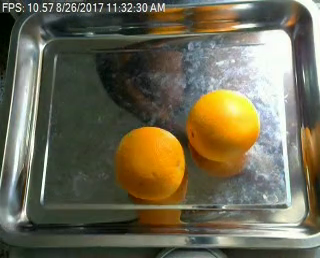Orange: (186, 88, 261, 163), (117, 124, 185, 201)
